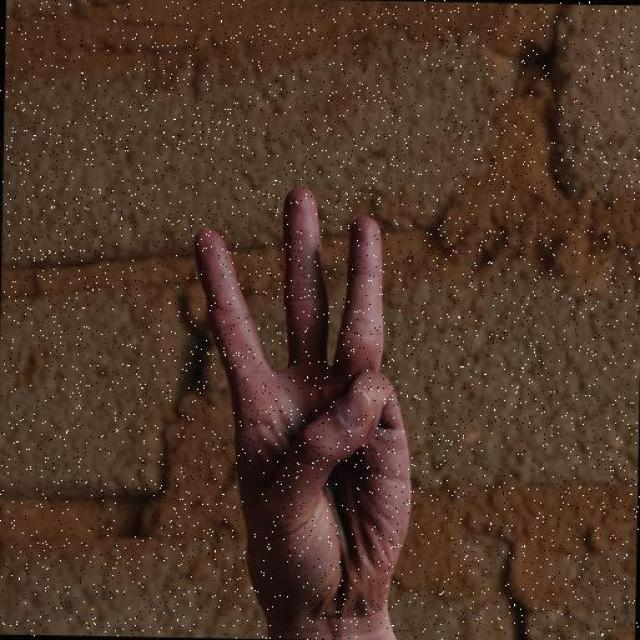W: (182, 182, 421, 628)
